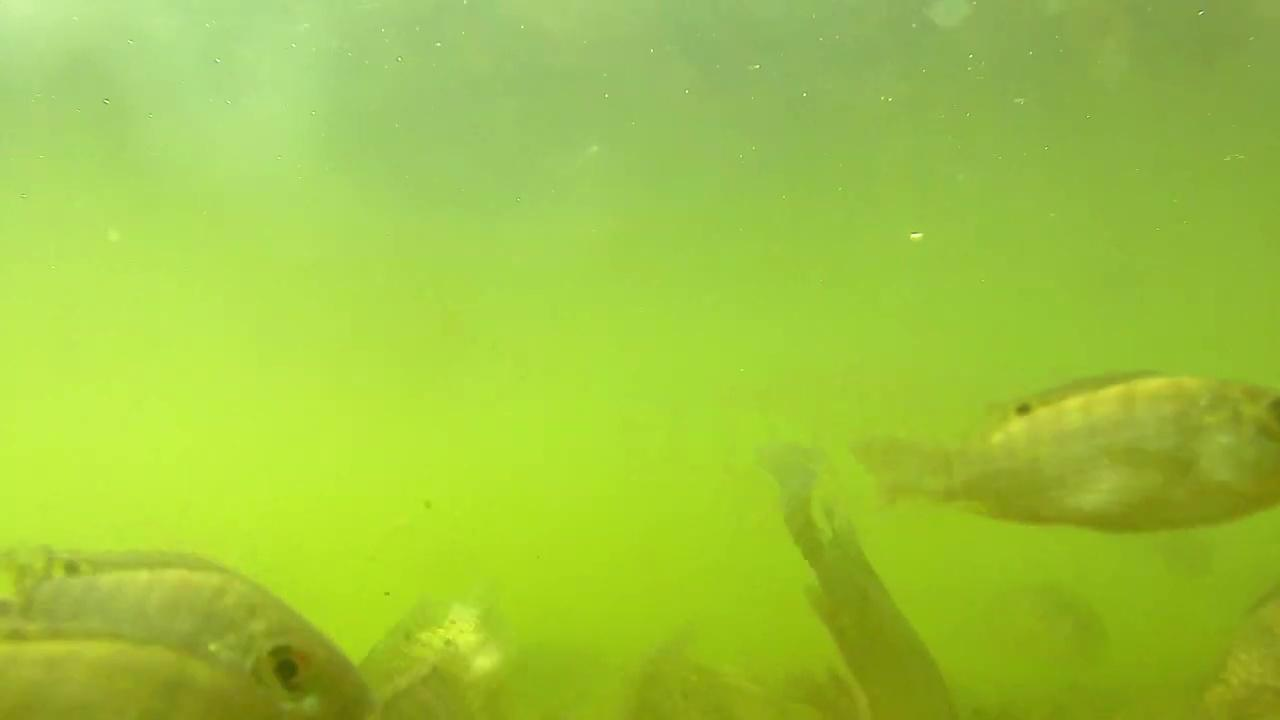Tilapia: (877, 366, 1280, 530), (0, 546, 360, 720)
